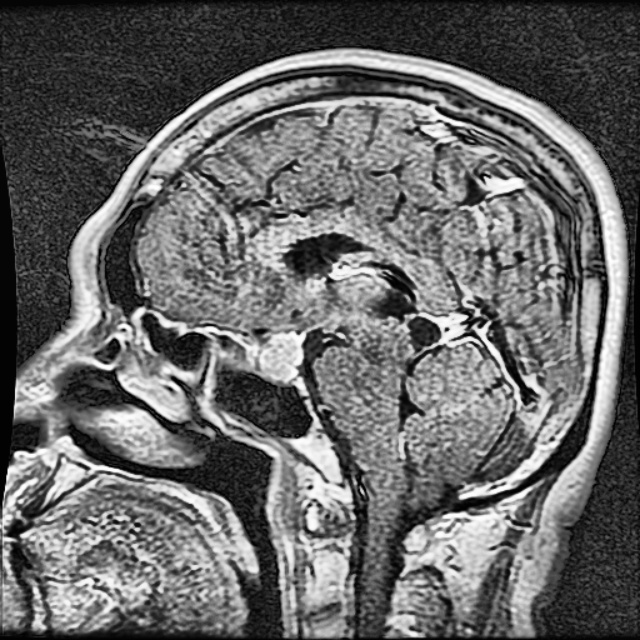Pituitary: (258, 332, 304, 375)
